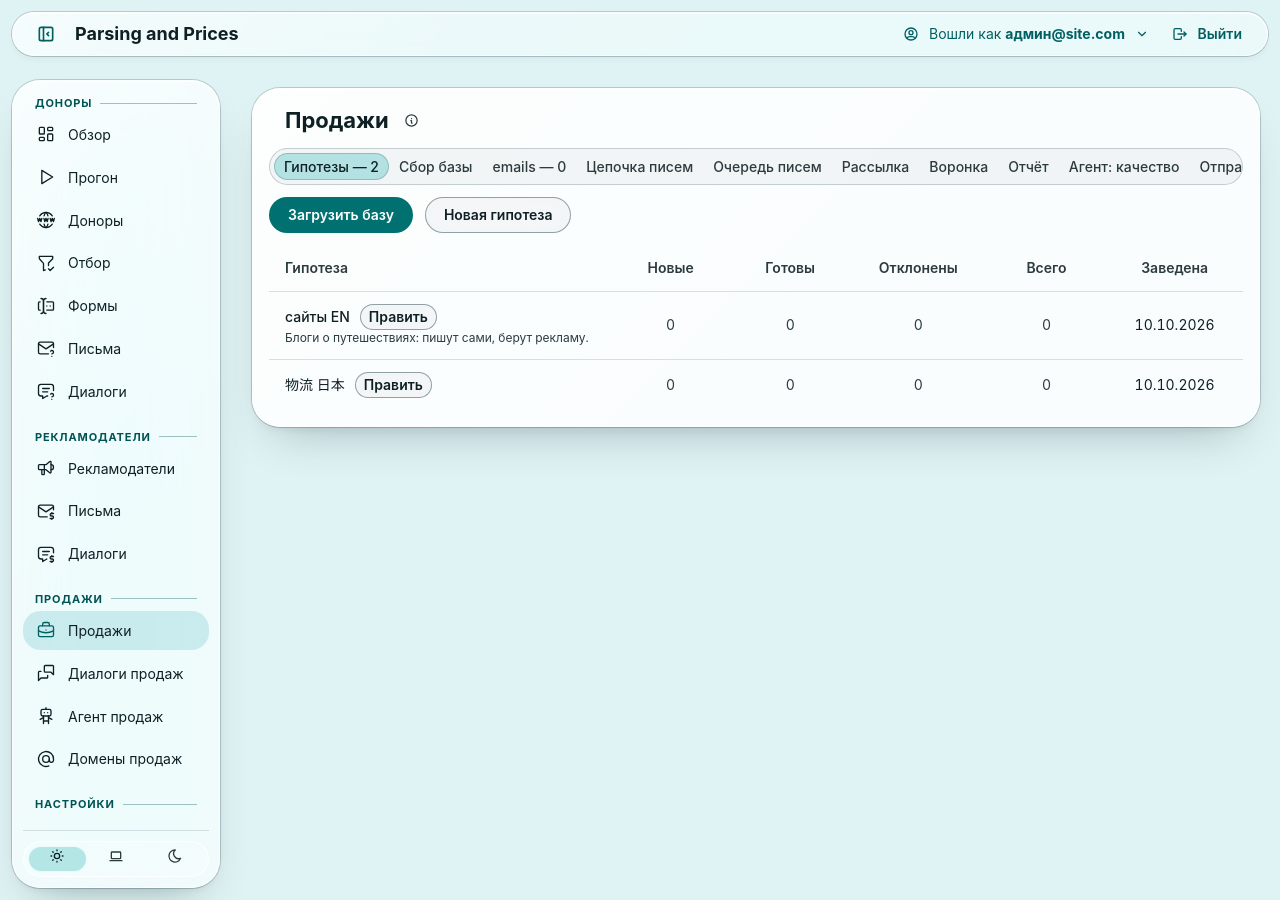
Test case: правка гипотезы: окно в режиме правки › ничего не поправили (пробелы в имени не в счёт) — окно закрыто, запроса нет
The width and height of the screenshot is (1280, 900).
Step 1. Click the button with aria-label "Править гипотезу «сайты EN»" → click(398, 317), box [360, 304, 437, 330]
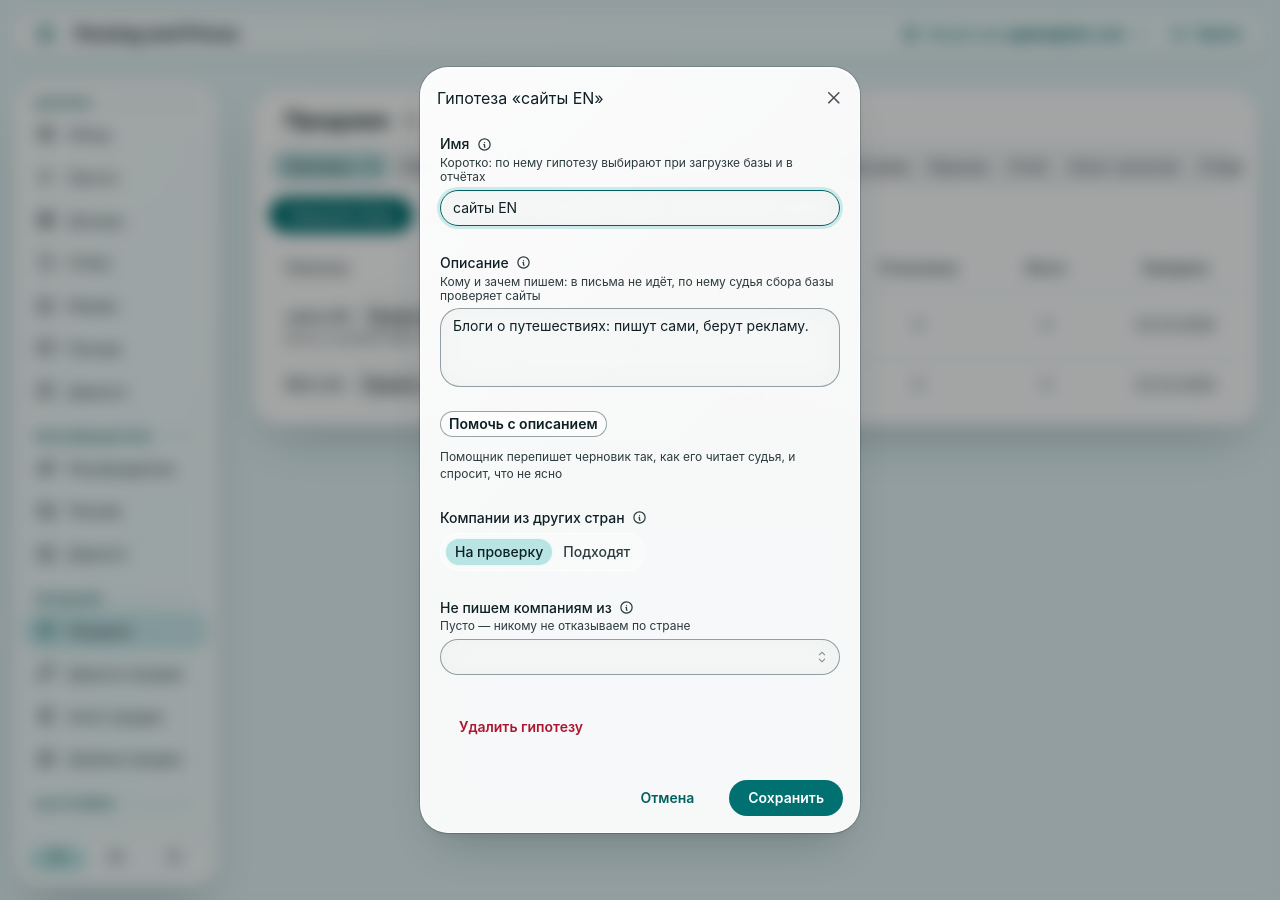
Step 2. Clear the field labelled "Имя" → (640, 208), box [440, 190, 840, 226]
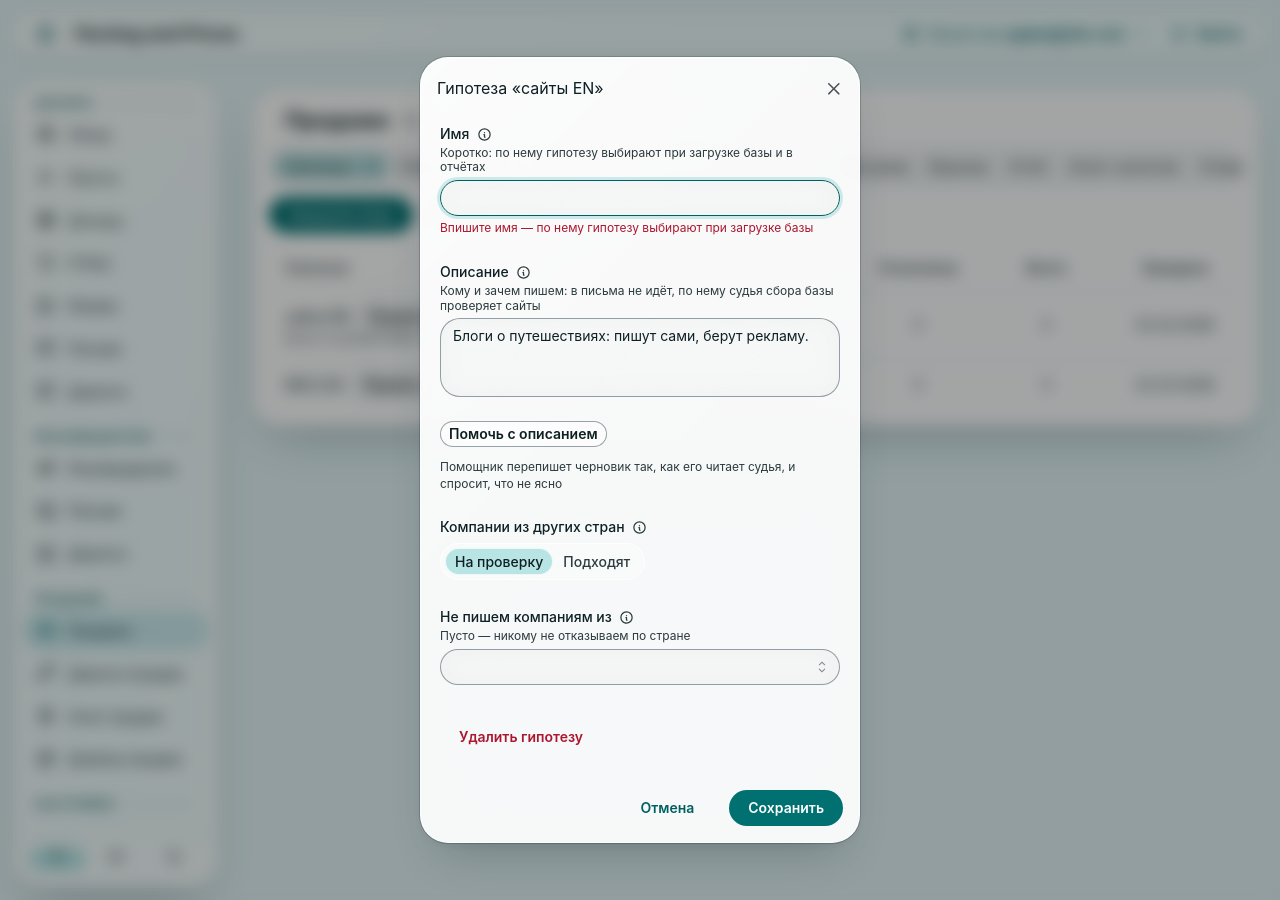
Step 3. Type "  сайты   EN " into the field labelled "Имя" → (640, 198), box [440, 180, 840, 216]
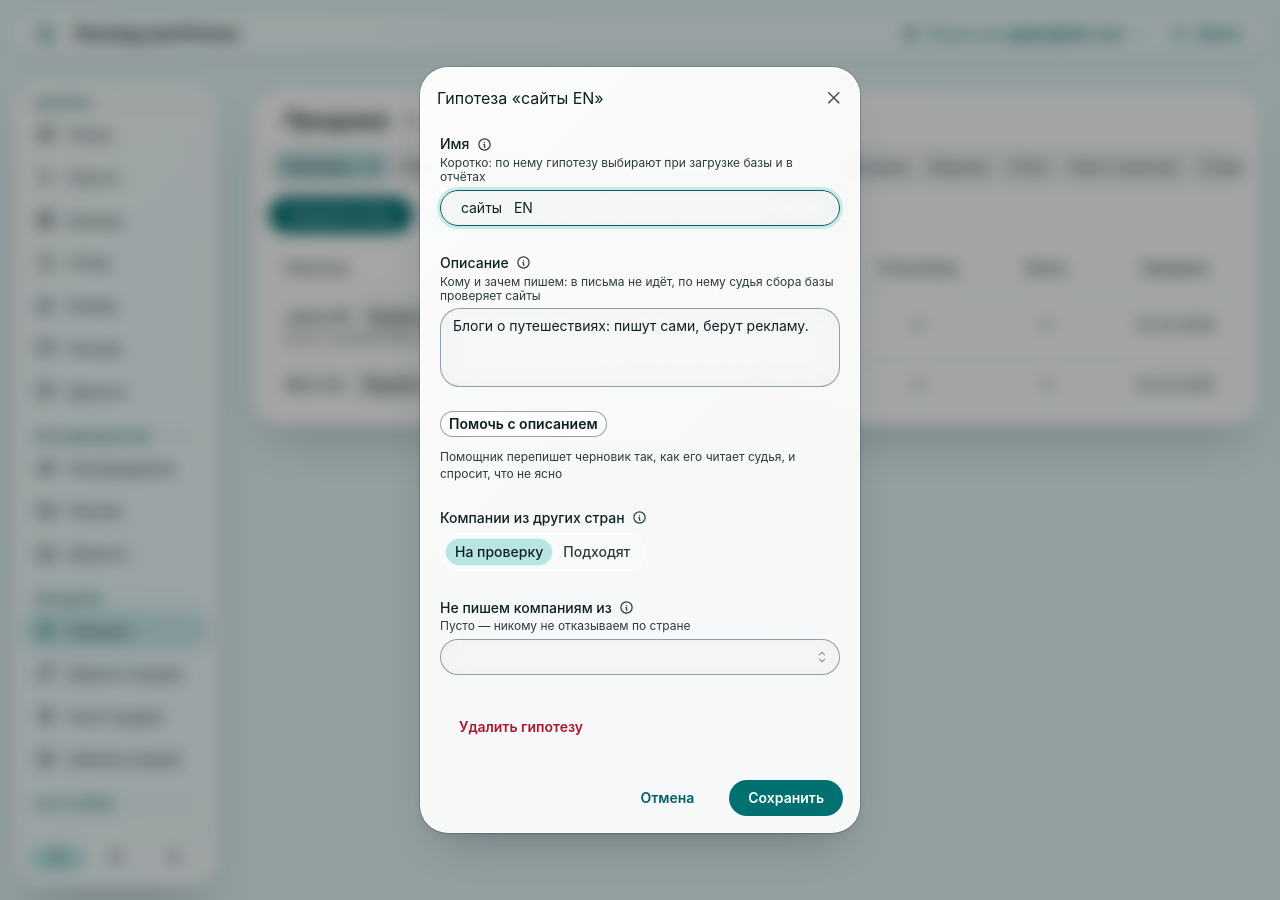
Step 4. Click the button "Сохранить" → click(786, 798), box [729, 780, 843, 816]
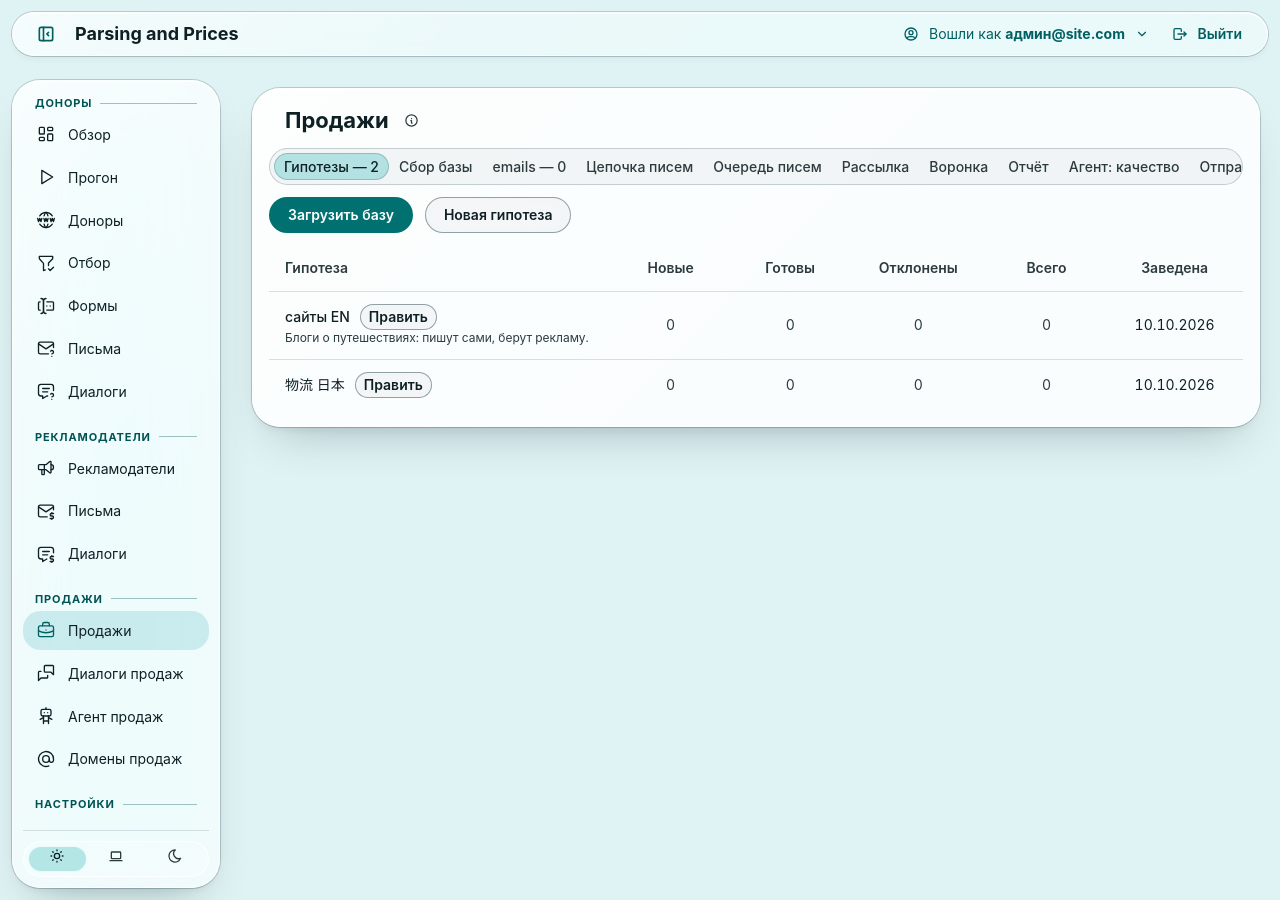
Now the dialog is gone
